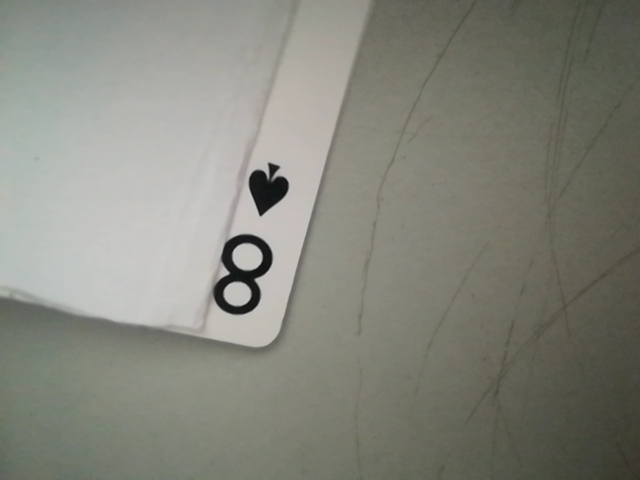ht 8: (197, 157, 304, 334)
